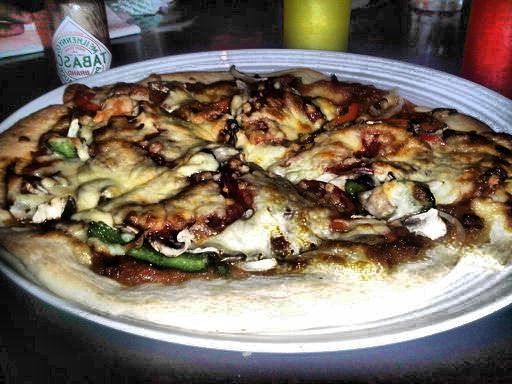pizza: (2, 63, 512, 310)
